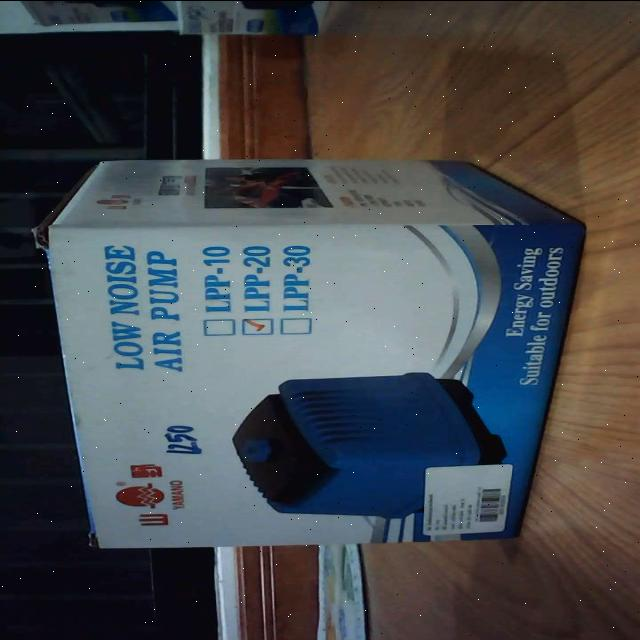YAMANO_LPP_20: (19, 150, 601, 560)
